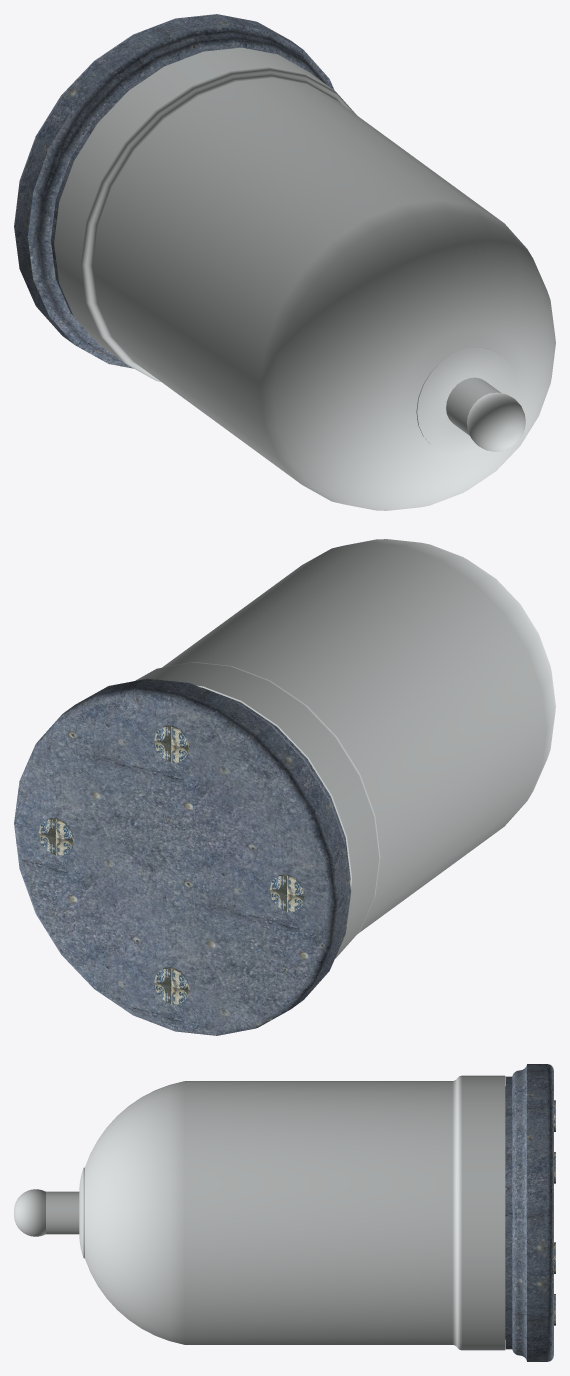
The model's file is model_align.obj.
The picture shows the model from 3 angles, top to bottom: view 1: azimuth 30°, elevation 25°; view 2: azimuth 150°, elevation 25°; view 3: azimuth 270°, elevation 25°; orthographic projection. The views are drawn at different scales.
Visible parts, largest first — view 1: mesh1_mesh1-geometry, mesh6_mesh6-geometry; view 2: mesh6_mesh6-geometry, mesh1_mesh1-geometry, mesh4_mesh4-geometry, mesh5_mesh5-geometry, mesh2_mesh2-geometry, mesh3_mesh3-geometry; view 3: mesh1_mesh1-geometry, mesh6_mesh6-geometry.
Part boxes in pixels (x1,y1,x2,y2): mesh1_mesh1-geometry: [54, 47, 555, 510]; mesh6_mesh6-geometry: [14, 14, 334, 368]; mesh6_mesh6-geometry: [14, 678, 351, 1035]; mesh1_mesh1-geometry: [135, 539, 555, 958]; mesh4_mesh4-geometry: [38, 818, 74, 855]; mesh5_mesh5-geometry: [154, 725, 189, 762]; mesh2_mesh2-geometry: [269, 874, 305, 911]; mesh3_mesh3-geometry: [154, 967, 189, 1004]; mesh1_mesh1-geometry: [14, 1075, 505, 1350]; mesh6_mesh6-geometry: [505, 1064, 553, 1361].
Size of the model in its own units: 0.1265 by 0.1265 by 0.2292.
